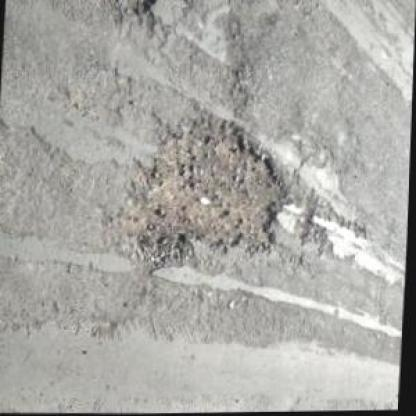pothole: (116, 114, 292, 272)
